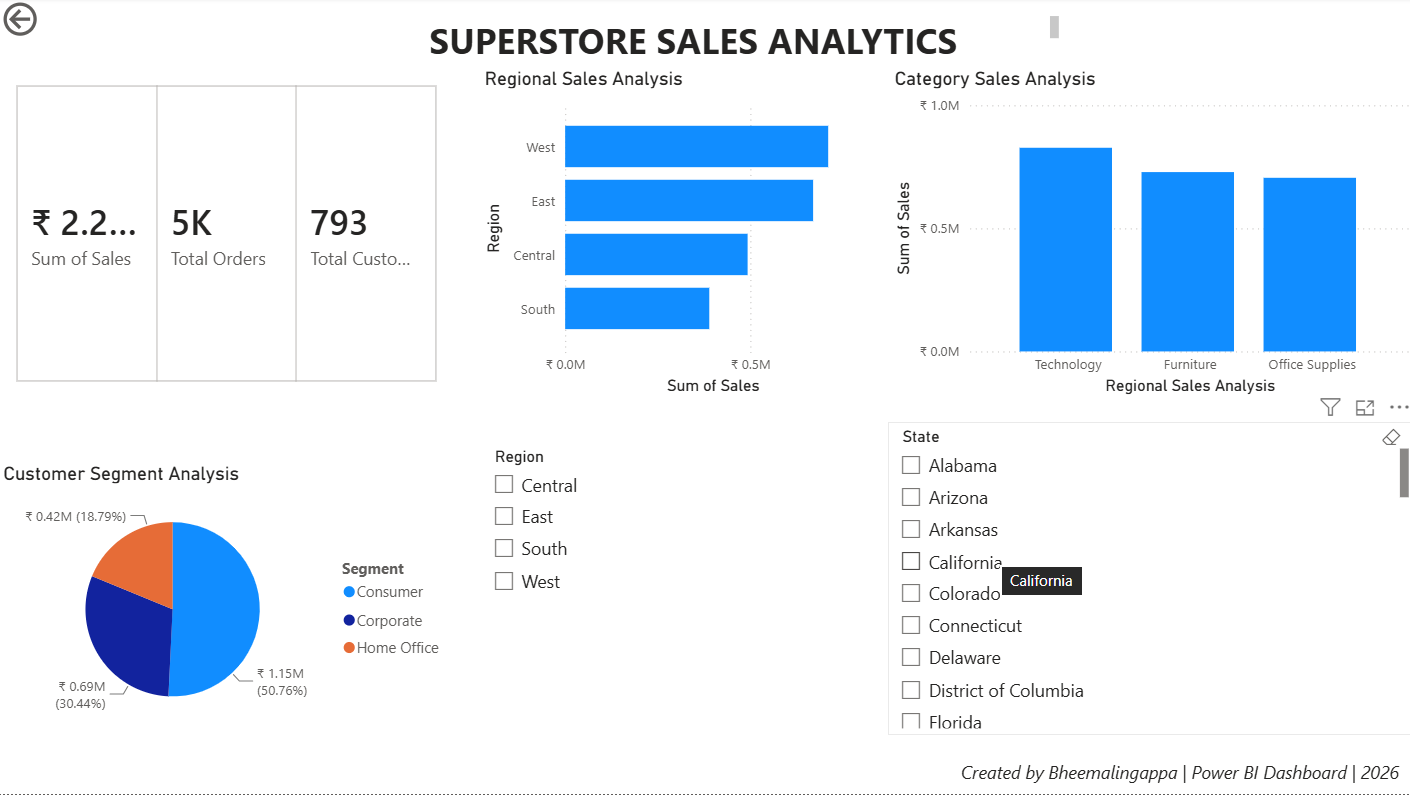

The page's visual inventory and layout, read from the dashboard file:
{"tool":"powerbi","page":{"name":"Executive Dashboard","canvas":[1280,720],"ordinal":0},"visuals":[{"type":"clusteredBarChart","title":"Regional Sales Analysis","fields":{"Y":["Sum(train.Sales)"],"Category":["train.Region"]},"box":[435.3,63.1,369.4,300.9],"z":0},{"type":"clusteredColumnChart","title":"Category Sales Analysis","fields":{"Y":["Sum(train.Sales)"],"Category":["train.Category"]},"box":[804.7,63.1,475.6,300.9],"z":1000},{"type":"pieChart","title":"Customer Segment Analysis","fields":{"Category":["train.Segment"],"Y":["Sum(train.Sales)"]},"box":[0,420,412.9,245.7],"z":3000},{"type":"slicer","fields":{"Values":["train.Region"]},"box":[435.7,401.4,355.7,264.3],"z":4000},{"type":"slicer","fields":{"Values":["train.State"]},"box":[804.3,384.3,475.7,281.4],"z":5000},{"type":"textbox","box":[301.9,12.3,661.4,50.8],"z":6000},{"type":"textbox","box":[854.3,684.3,425.7,35.7],"z":7000},{"type":"actionButton","box":[0,0,100,40],"z":7002},{"type":"cardVisual","fields":{"Data":["Sum(train.Sales)","train.Total Orders","train.Total Customers"]},"box":[0,63,413,301],"z":7003}]}

Visuals, with their boxes in screenshot pixels (x1, y1, x2, y2), scaled from the page's 1280x720 canvas onto the 1410x797 screenshot:
"Regional Sales Analysis" clusteredBarChart: box=[480, 70, 886, 403]
"Category Sales Analysis" clusteredColumnChart: box=[886, 70, 1409, 403]
"Customer Segment Analysis" pieChart: box=[0, 465, 455, 737]
slicer - train.Region: box=[480, 444, 872, 737]
slicer - train.State: box=[886, 425, 1409, 737]
textbox: box=[333, 14, 1061, 70]
textbox: box=[941, 757, 1409, 796]
actionButton: box=[0, 0, 110, 44]
cardVisual - Sum(train.Sales) x train.Total Orders: box=[0, 70, 455, 403]
